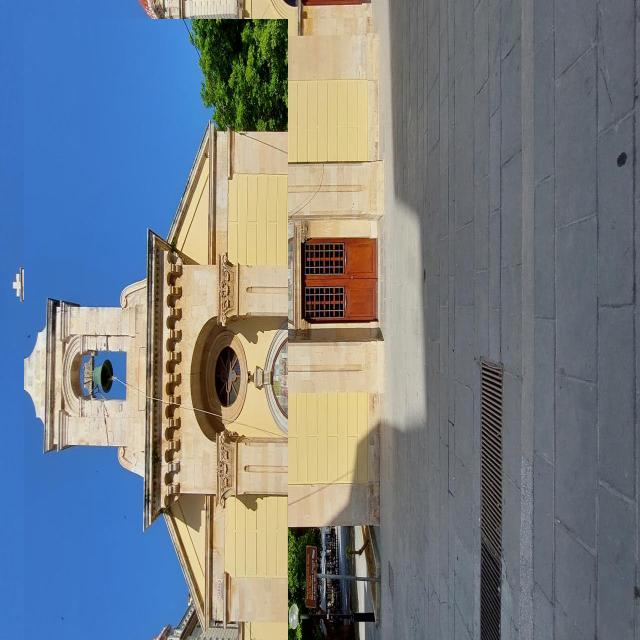Agios Minas: (25, 20, 289, 640)
